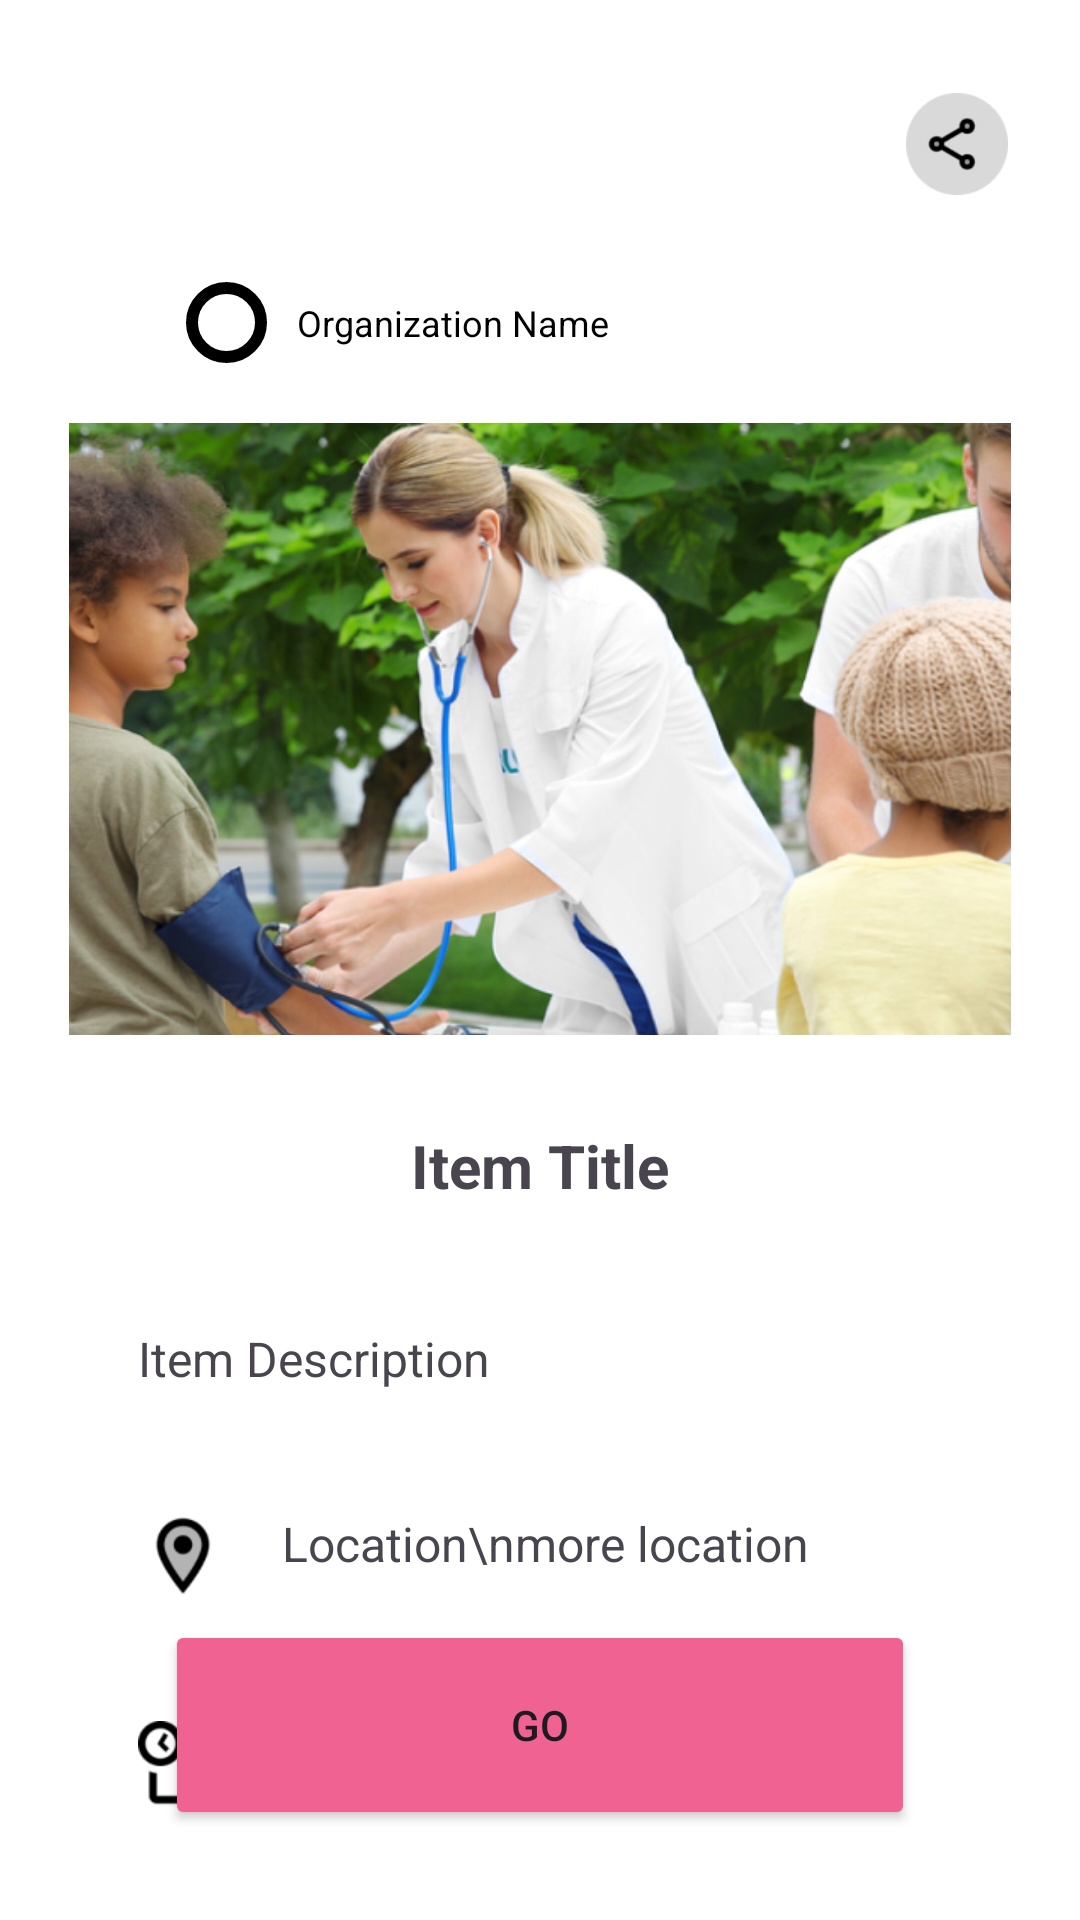

Named icons in this screenshot (1080*1920) and their centers, (x,y):
Share: (957,144)
